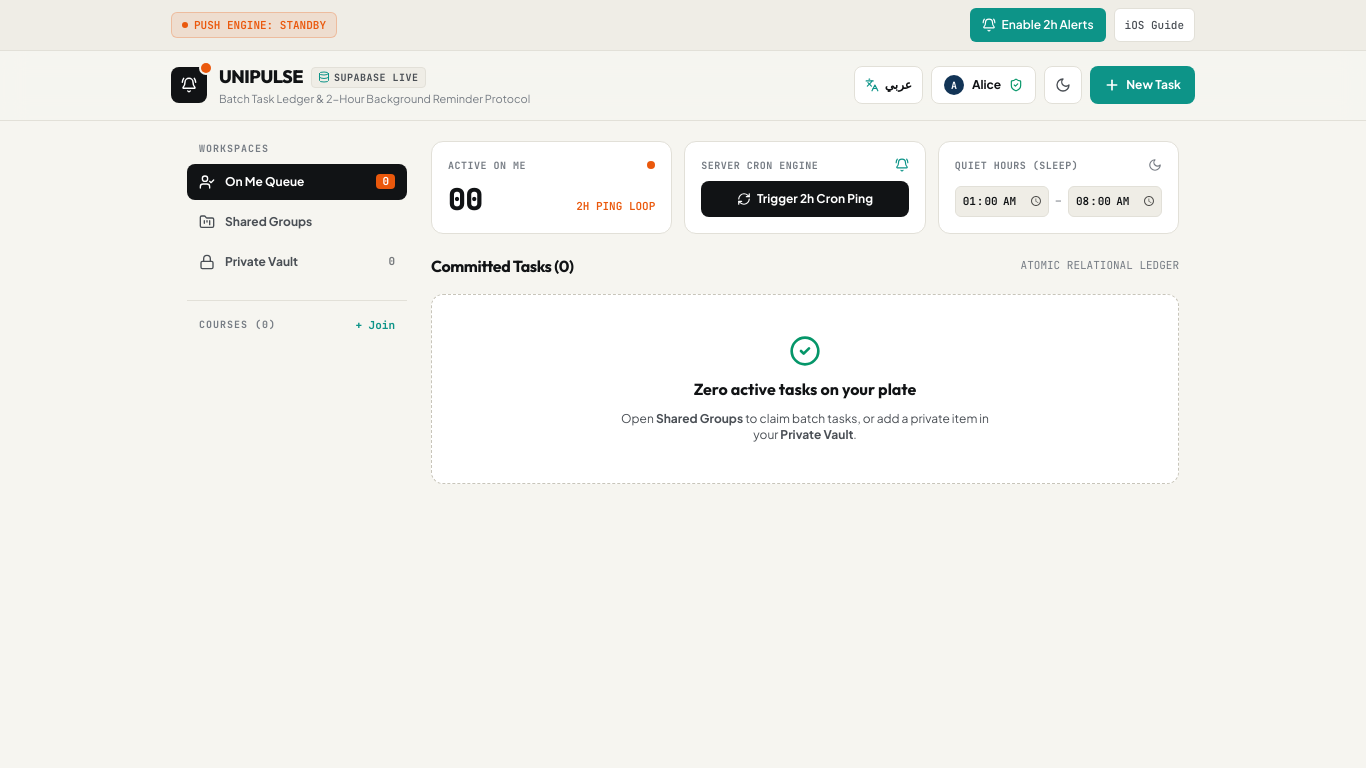
it: keeps the signed-in state and reports an error when cookie logout fails
This screenshot has width=1366, height=768.
Step 1. Click the button "A Alice" → (984, 85), box [931,66,1036,104]
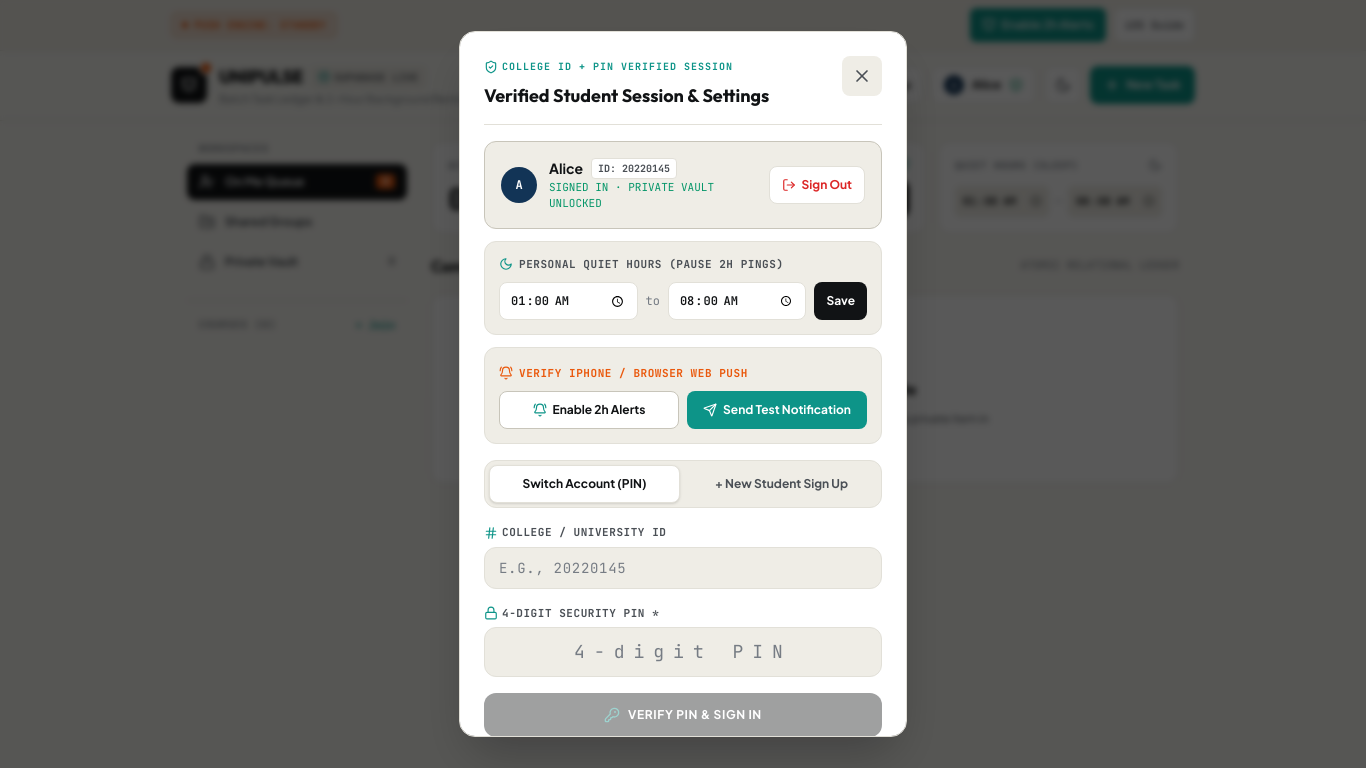
Step 2. Click the button "Sign Out" → (817, 185), box [768,166,865,204]
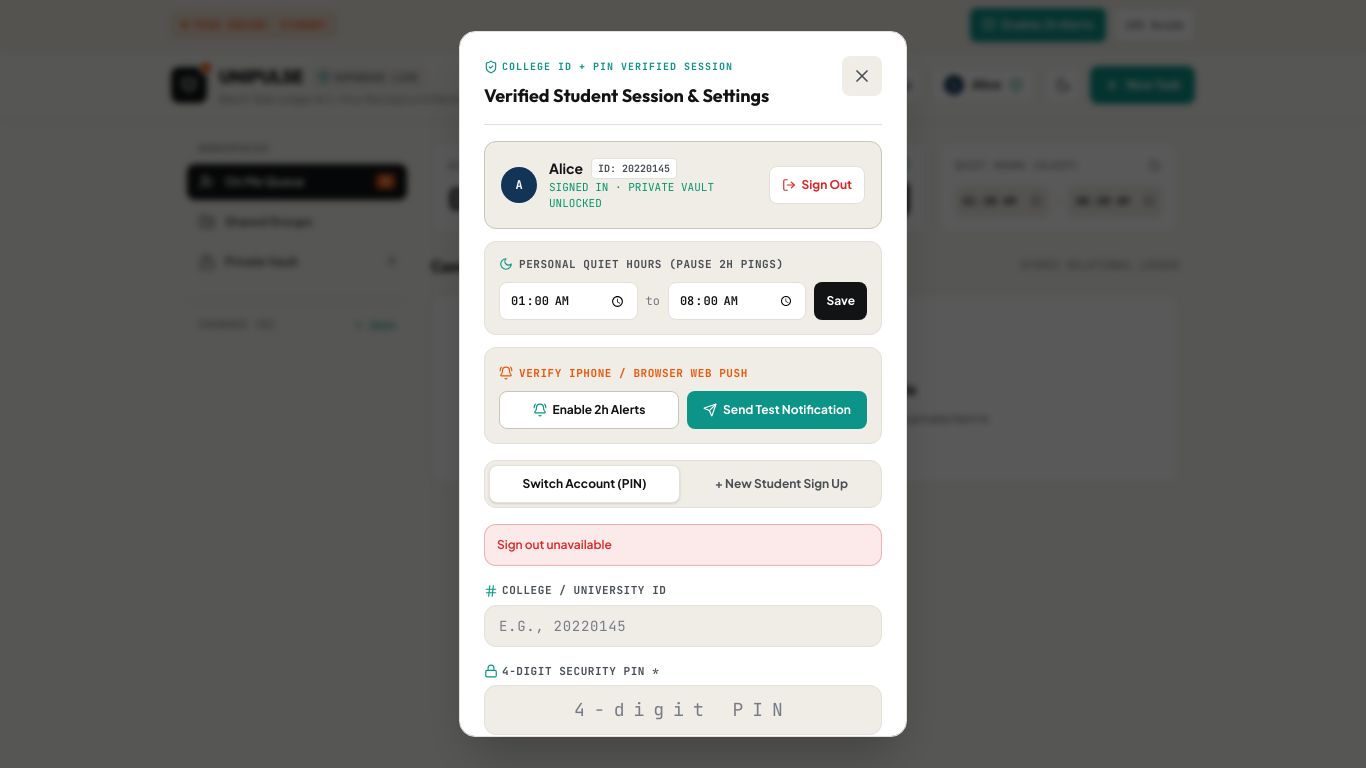
Now the message "Sign out unavailable" is shown, box [484,524,882,566]
Now the message reads "Sign out unavailable", box [497,538,612,552]
